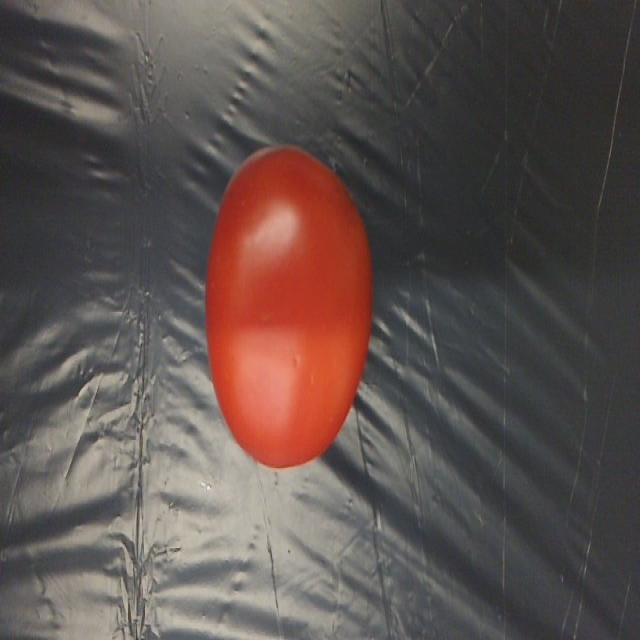kirmizi: (205, 128, 382, 501)
